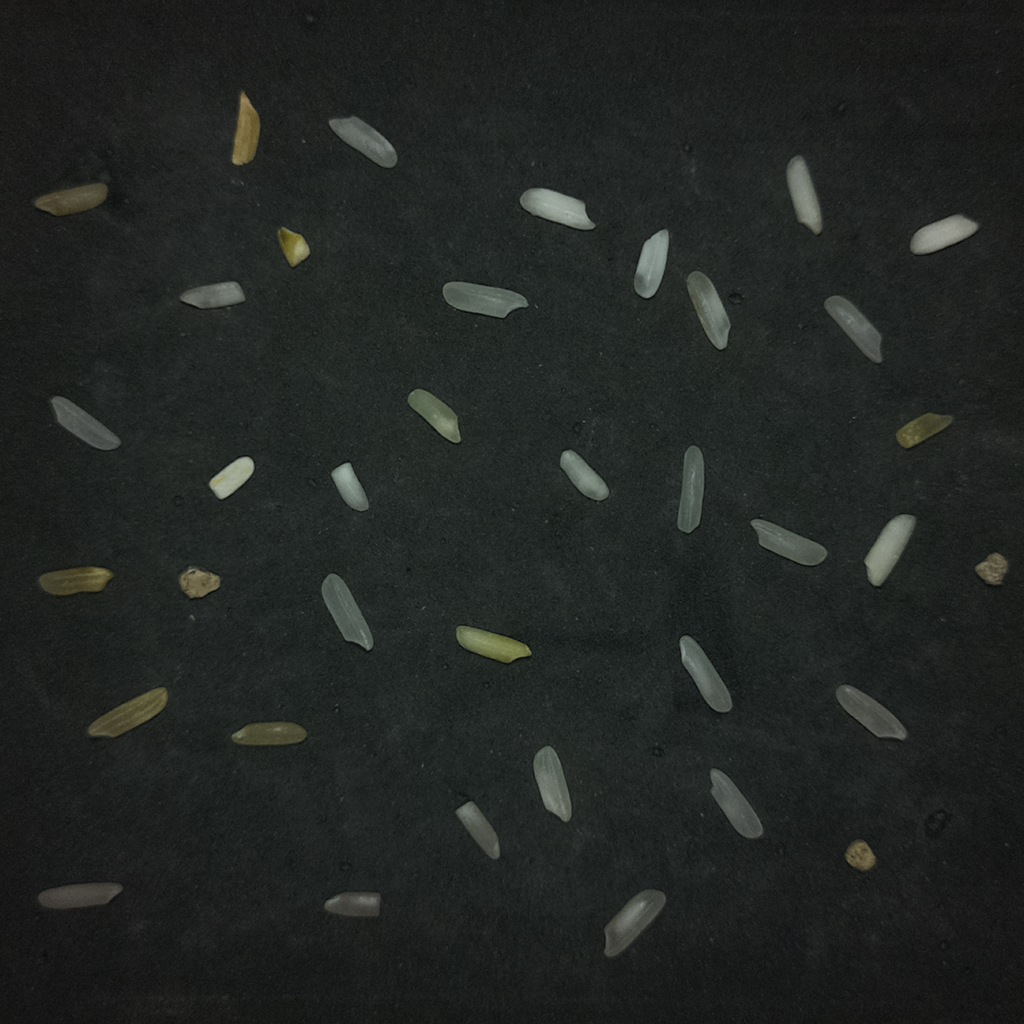broken: (455, 801, 499, 859), (179, 281, 244, 308), (323, 891, 381, 918), (975, 553, 1008, 585)
chalky: (781, 151, 824, 238), (864, 514, 915, 586), (520, 188, 595, 229), (910, 214, 978, 254), (560, 449, 609, 500), (634, 228, 669, 298), (208, 456, 255, 500), (331, 462, 368, 511)
discolored: (87, 687, 168, 737), (456, 625, 531, 663), (408, 389, 460, 443), (33, 183, 108, 215), (38, 566, 112, 595), (232, 91, 260, 165), (896, 413, 953, 449), (231, 722, 306, 745), (277, 227, 310, 267)
foreign: (178, 566, 220, 598), (845, 840, 876, 871)
whole: (604, 889, 665, 957), (679, 636, 732, 712), (321, 573, 373, 650), (835, 685, 907, 740), (824, 295, 881, 362), (51, 396, 120, 450), (328, 116, 397, 168), (711, 769, 762, 838), (686, 271, 730, 350), (751, 519, 826, 565), (442, 281, 528, 318), (533, 746, 571, 821), (677, 446, 704, 533), (37, 882, 122, 909)
